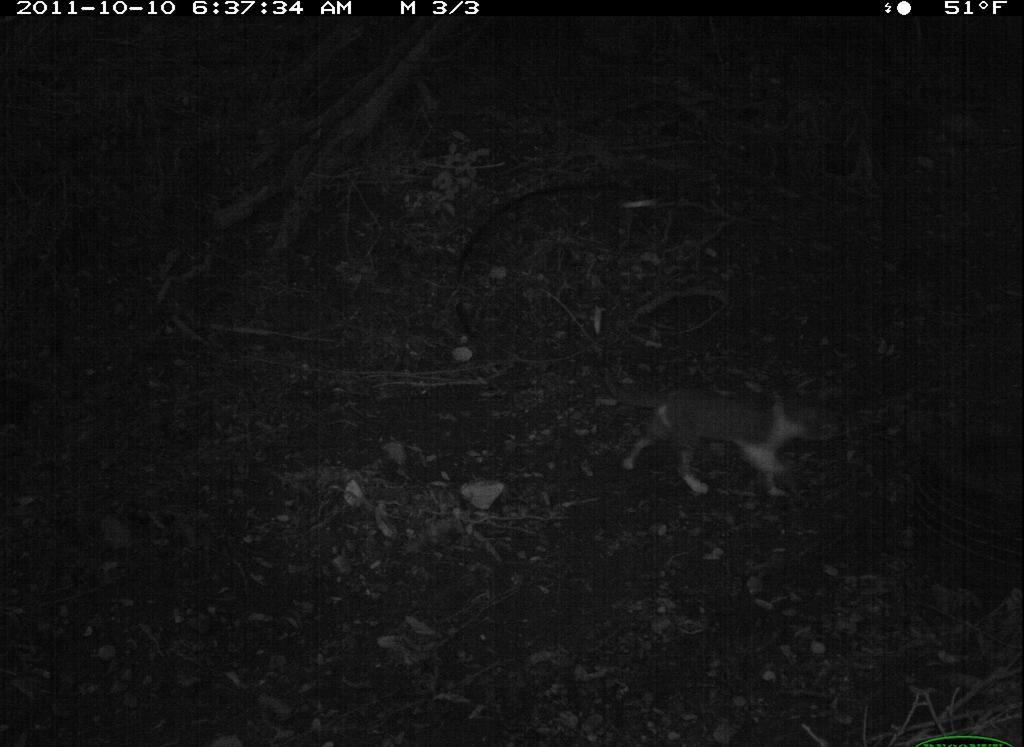cat: (592, 363, 838, 506)
